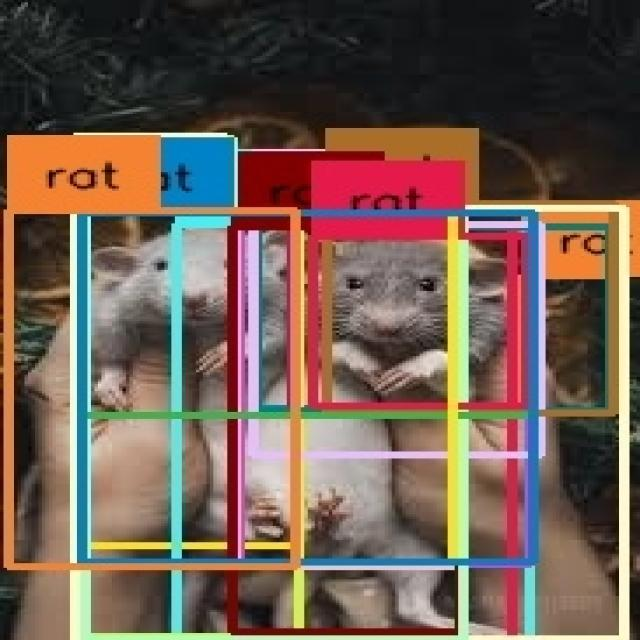rat: (75, 208, 624, 639), (82, 211, 530, 638), (86, 213, 463, 639), (80, 213, 532, 562), (176, 224, 530, 639), (82, 212, 453, 563), (234, 225, 514, 638), (8, 210, 296, 566), (239, 226, 530, 563), (232, 226, 460, 633), (82, 210, 299, 636), (82, 212, 534, 414), (238, 226, 451, 568), (82, 210, 296, 546), (257, 226, 610, 412), (255, 225, 539, 455), (329, 204, 612, 413), (259, 227, 535, 408), (82, 212, 292, 414), (315, 235, 528, 407), (521, 277, 616, 412)
